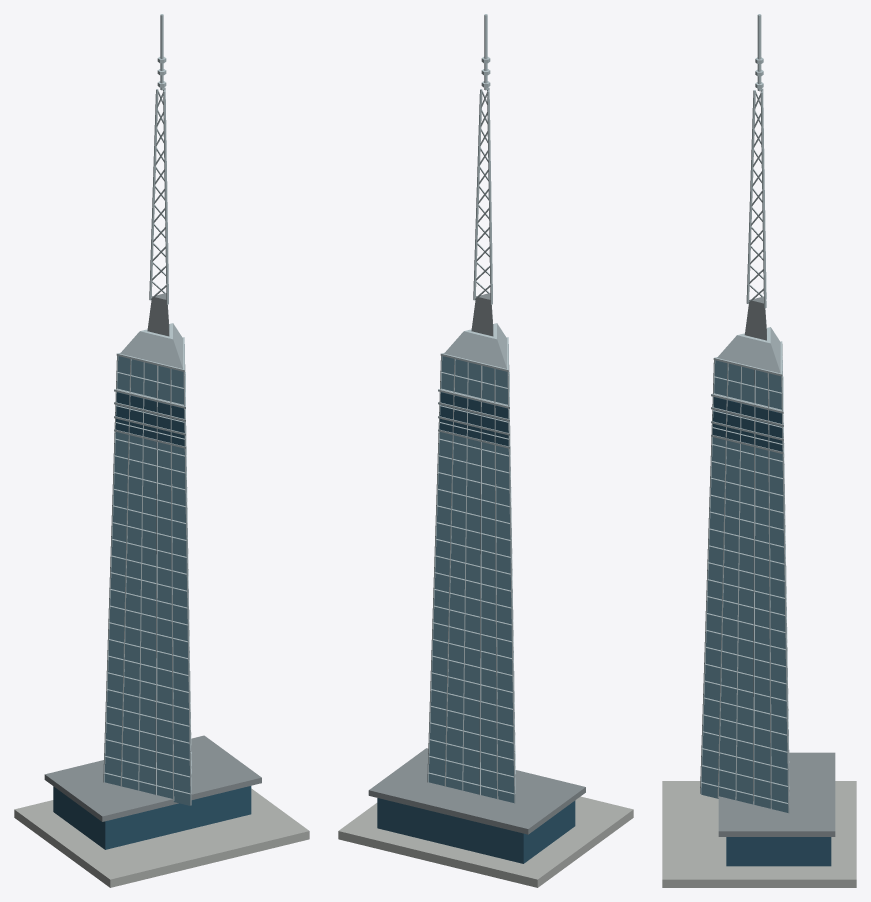
3 views of the same model, side by side, from view 1: azimuth 30°, elevation 25°; view 2: azimuth 150°, elevation 25°; view 3: azimuth 270°, elevation 25° (orthographic).
Parts seen in each view (by area): view 1: fukuoka-tower; view 2: fukuoka-tower; view 3: fukuoka-tower.
Boxes of the visible parts, left/top/right/bottom form: fukuoka-tower: left=14, top=14, right=309, bottom=887; fukuoka-tower: left=338, top=14, right=633, bottom=887; fukuoka-tower: left=662, top=14, right=856, bottom=887.
Bounding box in the file's own units: 6 × 23.4 × 5.
